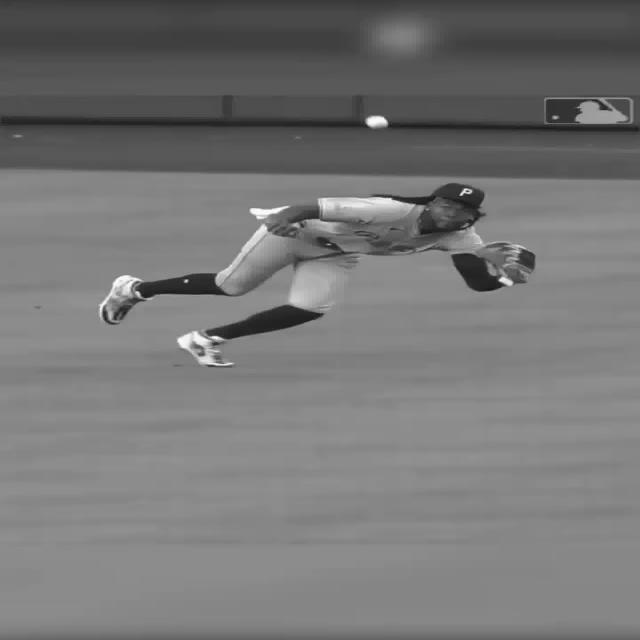baseball: (363, 118, 392, 132)
baseball_glove: (477, 238, 537, 284)
shoe: (100, 276, 156, 324), (172, 332, 235, 372)
